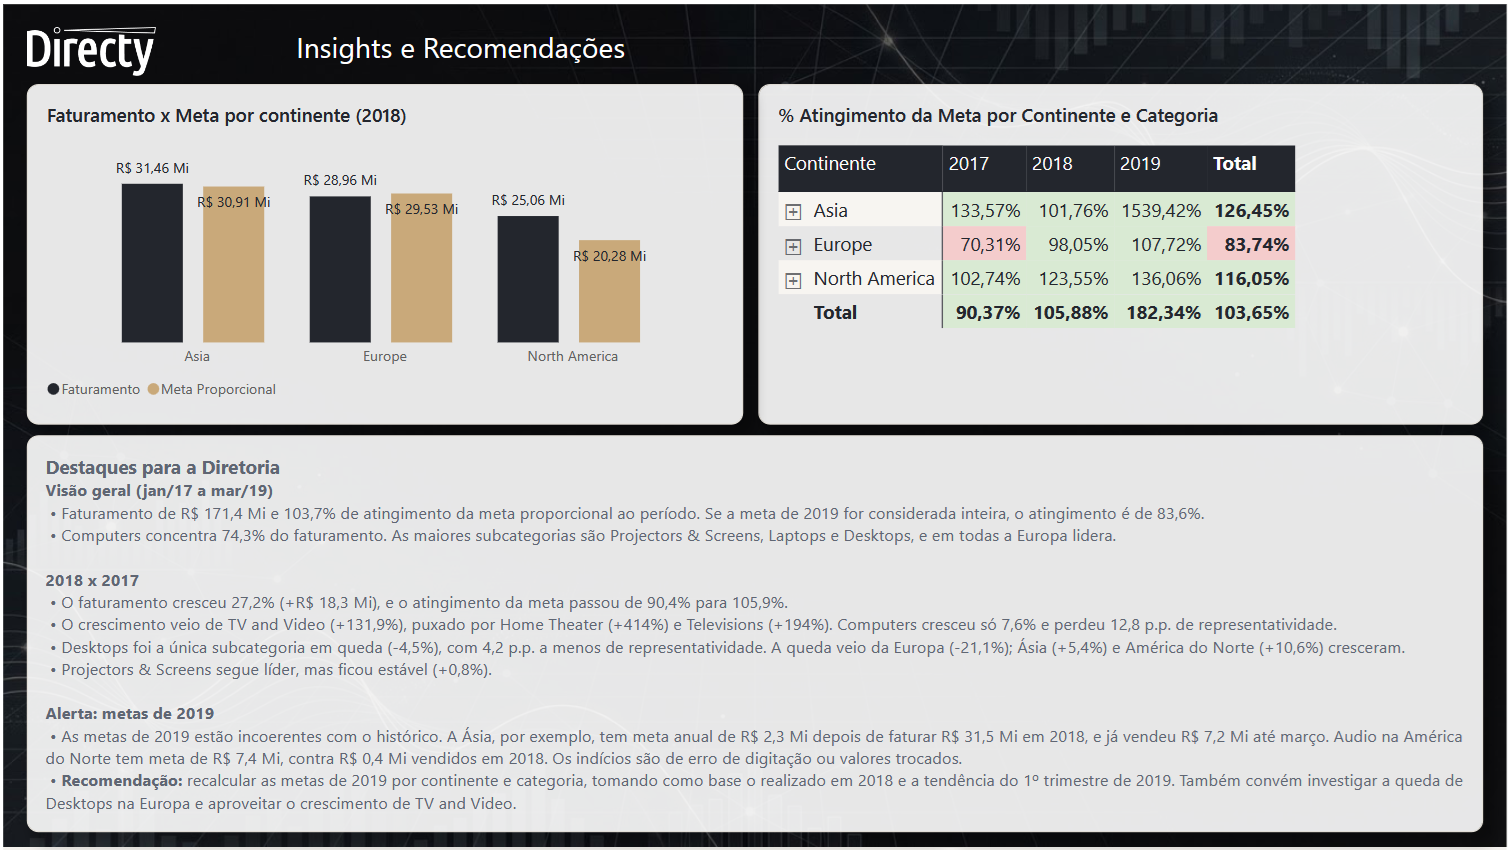

This screenshot's page, from the dashboard's own definition file:
{"tool":"powerbi","page":{"name":"Insights e Recomendações","canvas":[1280,720],"ordinal":2},"visuals":[{"type":"pivotTable","title":"% Atingimento da Meta por Continente e Categoria","fields":{"Columns":["dCalendario.Ano"],"Rows":["dContinente.Continente","dCategoria.Categoria"],"Values":["_Medidas.% Atingimento"]},"box":[643,68,617,290],"z":0},{"type":"clusteredColumnChart","title":"Faturamento x Meta por continente (2018)","fields":{"Category":["dContinente.Continente"],"Y":["_Medidas.Faturamento","_Medidas.Meta Proporcional"]},"box":[20,68,610,290],"z":1000},{"type":"textbox","box":[145.6,20,487.8,40],"z":2000},{"type":"image","box":[20,19,110,42],"z":3000},{"type":"textbox","box":[20,367,1240,338],"z":4000}]}

Visuals, with their boxes in screenshot pixels (x1, y1, x2, y2), scaled from the page's 1280x720 canvas onto the 1510x850 screenshot:
"% Atingimento da Meta por Continente e Categoria" pivotTable: (left=759, top=80, right=1486, bottom=423)
"Faturamento x Meta por continente (2018)" clusteredColumnChart: (left=24, top=80, right=743, bottom=423)
textbox: (left=172, top=24, right=747, bottom=71)
image: (left=24, top=22, right=153, bottom=72)
textbox: (left=24, top=433, right=1486, bottom=832)
